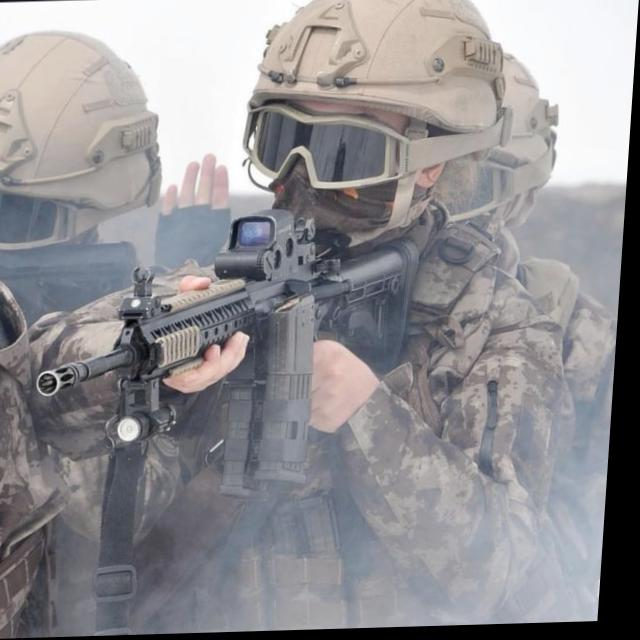poh_personel: (17, 0, 592, 631)
